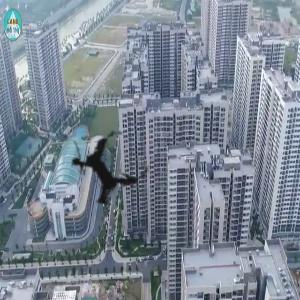drone: (31, 96, 176, 241)
